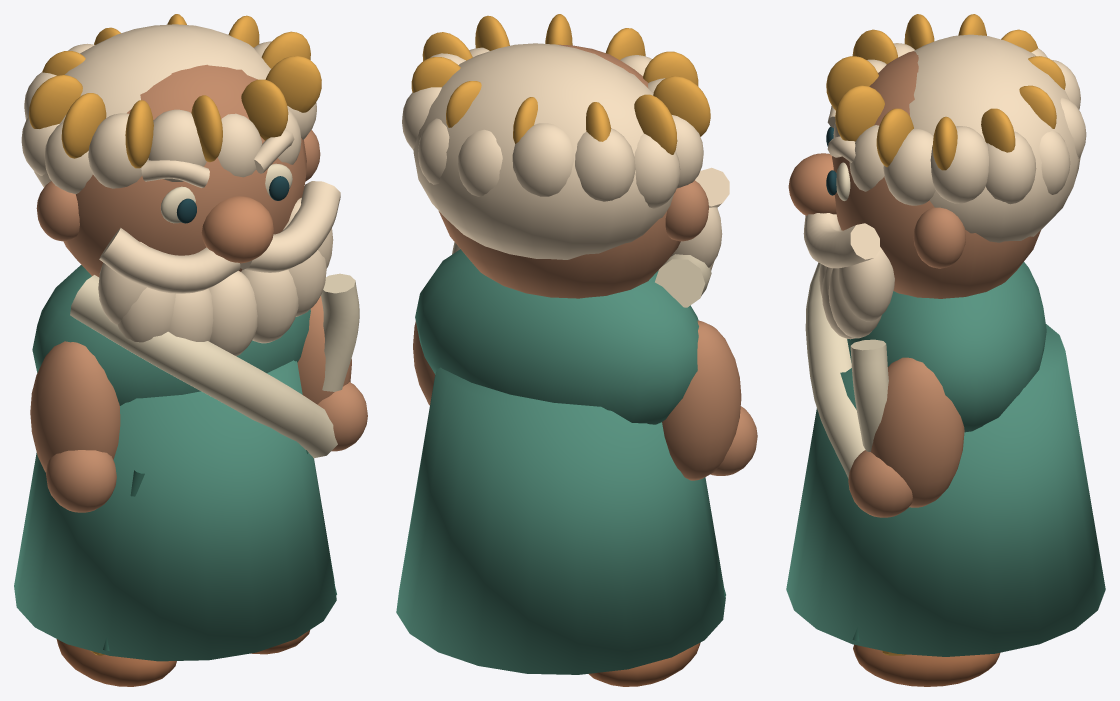
The model's file is patron_wind.glb.
3 renders of one model, left to right at view 1: azimuth 30°, elevation 25°; view 2: azimuth 150°, elevation 25°; view 3: azimuth 270°, elevation 25°, orthographic. The views are drawn at different scales.
Parts seen in each view (by area): view 1: body_528E7B, body_F1DABB, body_BE8765, body_E7D8B9, body_E4A647, body_C98C66, body_A76C47, body_21454C; view 2: body_528E7B, body_F1DABB, body_BE8765, body_E4A647, body_E7D8B9, body_A76C47; view 3: body_528E7B, body_F1DABB, body_BE8765, body_E4A647, body_E7D8B9, body_A76C47, body_C98C66.
Part boxes in pixels (<box>): body_528E7B: <box>14,265,336,661</box>; body_F1DABB: <box>21,24,340,356</box>; body_BE8765: <box>30,64,367,512</box>; body_E7D8B9: <box>70,163,359,458</box>; body_E4A647: <box>29,14,321,655</box>; body_C98C66: <box>201,196,273,263</box>; body_A76C47: <box>56,630,309,686</box>; body_21454C: <box>176,176,289,223</box>; body_528E7B: <box>396,249,725,674</box>; body_F1DABB: <box>402,43,729,270</box>; body_BE8765: <box>413,44,757,480</box>; body_E4A647: <box>411,14,710,154</box>; body_E7D8B9: <box>452,242,711,307</box>; body_A76C47: <box>589,642,700,686</box>; body_528E7B: <box>786,262,1105,656</box>; body_F1DABB: <box>803,34,1086,339</box>; body_BE8765: <box>832,51,1040,517</box>; body_E4A647: <box>826,14,1065,655</box>; body_E7D8B9: <box>805,162,888,478</box>; body_A76C47: <box>853,644,1000,686</box>; body_C98C66: <box>788,153,836,215</box>.
Bounding box in the file's own units: 1.14 × 2.12 × 1.03.
